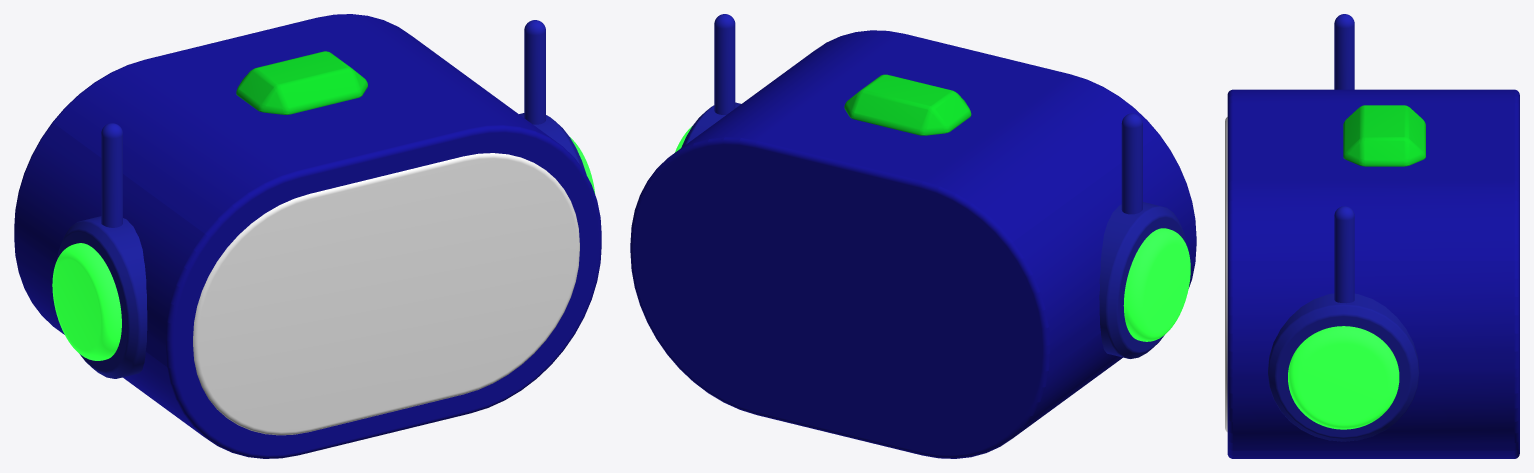
The model's file is bot-drafts.glb.
The picture shows the model from 3 angles, left to right: view 1: azimuth 30°, elevation 25°; view 2: azimuth 150°, elevation 25°; view 3: azimuth 270°, elevation 25°; orthographic projection. The views are drawn at different scales.
Visible parts, largest first — view 1: Cube001, Cube001_1, Cylinder, Cylinder001, Cube002, Cylinder002; view 2: Cube001, Cylinder, Cylinder001, Cube002, Cylinder002; view 3: Cube001, Cylinder001, Cylinder, Cube002, Cylinder002, Cube001_1.
Part boxes in pixels (x1=…): Cube001: x1=14, y1=14, x2=601, y2=458; Cube001_1: x1=193, y1=153, x2=579, y2=435; Cylinder: x1=57, y1=113, x2=586, y2=378; Cylinder001: x1=52, y1=137, x2=595, y2=360; Cube002: x1=236, y1=51, x2=367, y2=114; Cylinder002: x1=101, y1=20, x2=545, y2=227; Cube001: x1=630, y1=30, x2=1196, y2=458; Cylinder: x1=681, y1=102, x2=1186, y2=358; Cylinder001: x1=675, y1=126, x2=1190, y2=341; Cube002: x1=844, y1=74, x2=971, y2=135; Cylinder002: x1=714, y1=14, x2=1142, y2=214; Cube001: x1=1227, y1=89, x2=1519, y2=458; Cylinder001: x1=1288, y1=326, x2=1399, y2=429; Cylinder: x1=1268, y1=293, x2=1419, y2=441; Cube002: x1=1343, y1=105, x2=1425, y2=166; Cylinder002: x1=1334, y1=14, x2=1354, y2=303; Cube001_1: x1=1225, y1=117, x2=1227, y2=432.
Size of the model in its own units: 3.63 by 2.35 by 2.02.
